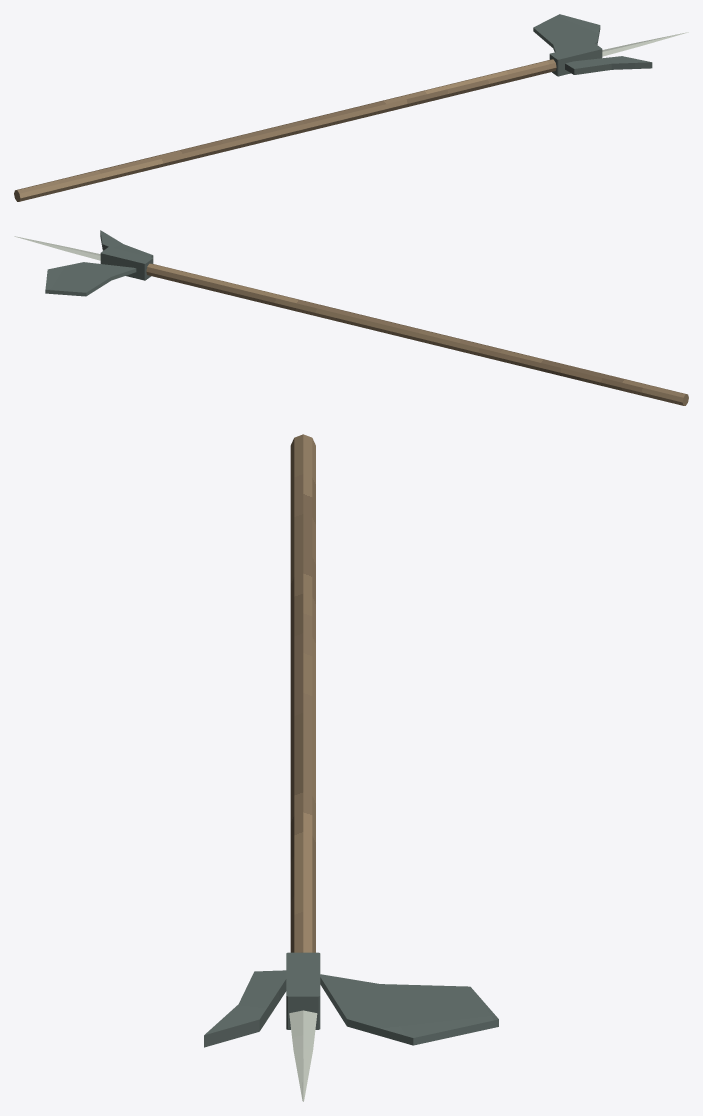
Rendered from weapon-halberd.glb.
3 renders of one model, top to bottom at view 1: azimuth 30°, elevation 25°; view 2: azimuth 150°, elevation 25°; view 3: azimuth 270°, elevation 25°, orthographic. The views are drawn at different scales.
Visible parts, largest first — view 1: weapon-halberd/eight-sided-long-shaft, weapon-halberd/broad-axe-blade, weapon-halberd/rear-curved-beak, weapon-halberd/off-centre-head-socket, weapon-halberd/apical-long-spike; view 2: weapon-halberd/eight-sided-long-shaft, weapon-halberd/broad-axe-blade, weapon-halberd/off-centre-head-socket, weapon-halberd/rear-curved-beak, weapon-halberd/apical-long-spike; view 3: weapon-halberd/eight-sided-long-shaft, weapon-halberd/broad-axe-blade, weapon-halberd/rear-curved-beak, weapon-halberd/off-centre-head-socket, weapon-halberd/apical-long-spike.
Boxes of the visible parts, left/top/right/bottom form: weapon-halberd/eight-sided-long-shaft: left=14, top=59, right=556, bottom=201; weapon-halberd/broad-axe-blade: left=533, top=14, right=600, bottom=52; weapon-halberd/rear-curved-beak: left=565, top=56, right=652, bottom=74; weapon-halberd/off-centre-head-socket: left=549, top=43, right=602, bottom=76; weapon-halberd/apical-long-spike: left=602, top=32, right=688, bottom=56; weapon-halberd/eight-sided-long-shaft: left=146, top=263, right=688, bottom=405; weapon-halberd/broad-axe-blade: left=45, top=262, right=136, bottom=296; weapon-halberd/off-centre-head-socket: left=100, top=247, right=153, bottom=280; weapon-halberd/rear-curved-beak: left=100, top=230, right=153, bottom=257; weapon-halberd/apical-long-spike: left=14, top=236, right=100, bottom=260; weapon-halberd/eight-sided-long-shaft: left=290, top=434, right=315, bottom=952; weapon-halberd/broad-axe-blade: left=320, top=974, right=498, bottom=1045; weapon-halberd/rear-curved-beak: left=204, top=970, right=286, bottom=1047; weapon-halberd/off-centre-head-socket: left=286, top=952, right=320, bottom=1029; weapon-halberd/apical-long-spike: left=289, top=1010, right=317, bottom=1101.
Size of the model in its own units: 2.06 by 0.049 by 0.392.
Materials: 3 (3 with a texture image).
